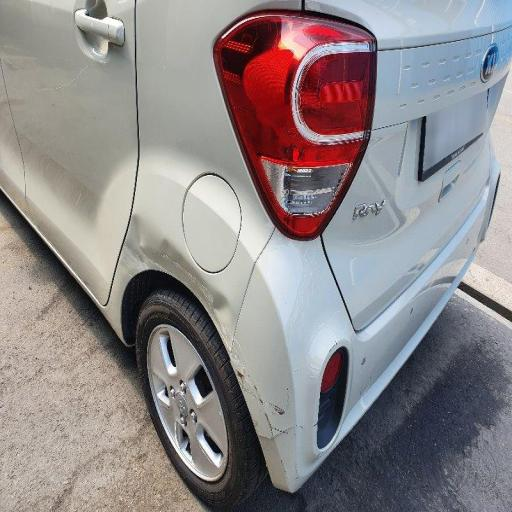dent: (127, 194, 238, 327)
scratch: (223, 336, 331, 488)
